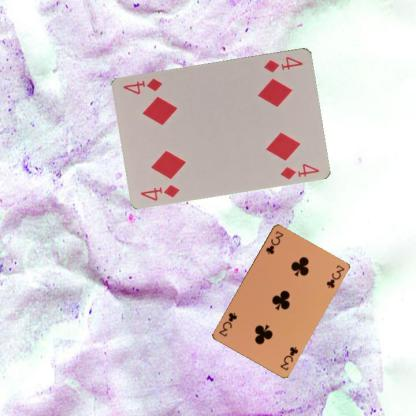3c: (263, 228, 285, 256), (278, 344, 300, 371)
4d: (138, 181, 181, 202), (262, 53, 304, 74)
